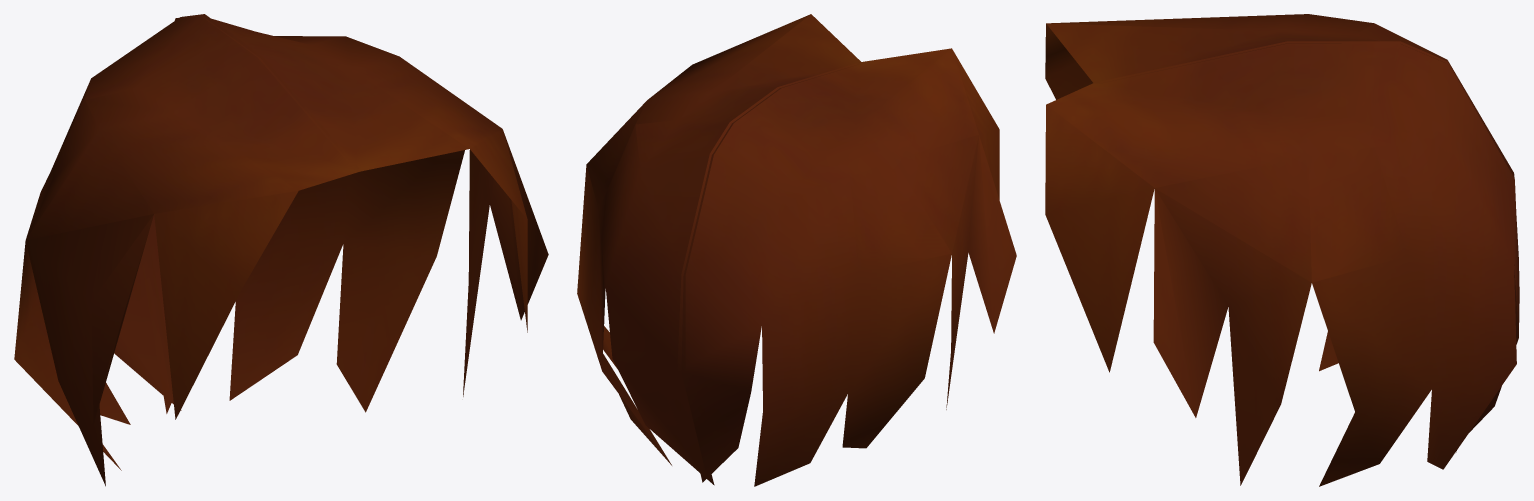
File: BenHair.fbx
3 renders of one model, left to right at view 1: azimuth 30°, elevation 25°; view 2: azimuth 150°, elevation 25°; view 3: azimuth 270°, elevation 25°, orthographic. The views are drawn at different scales.
Visible parts, largest first — view 1: BenHair; view 2: BenHair; view 3: BenHair.
Boxes of the visible parts, bbox=[...] form: BenHair: bbox=[14, 14, 548, 486]; BenHair: bbox=[577, 14, 1016, 486]; BenHair: bbox=[1045, 14, 1519, 486].
Size of the model in its own units: 83.92 by 75.59 by 79.66.
